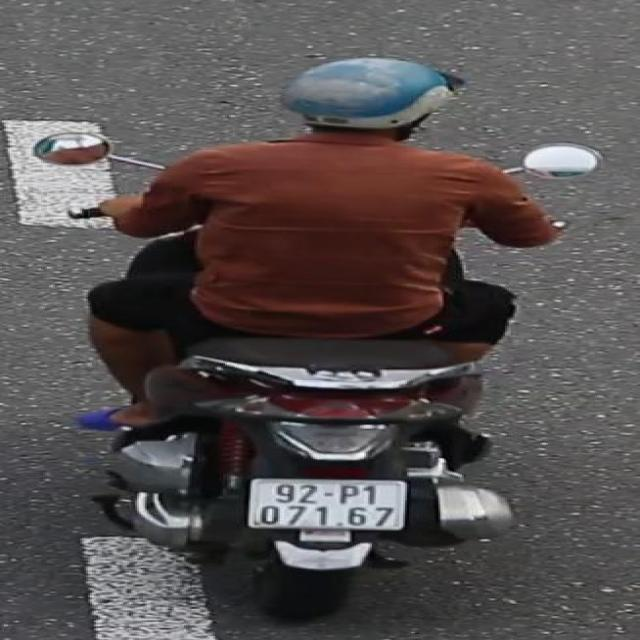LP: (244, 472, 414, 534)
helmet: (278, 51, 470, 151)
